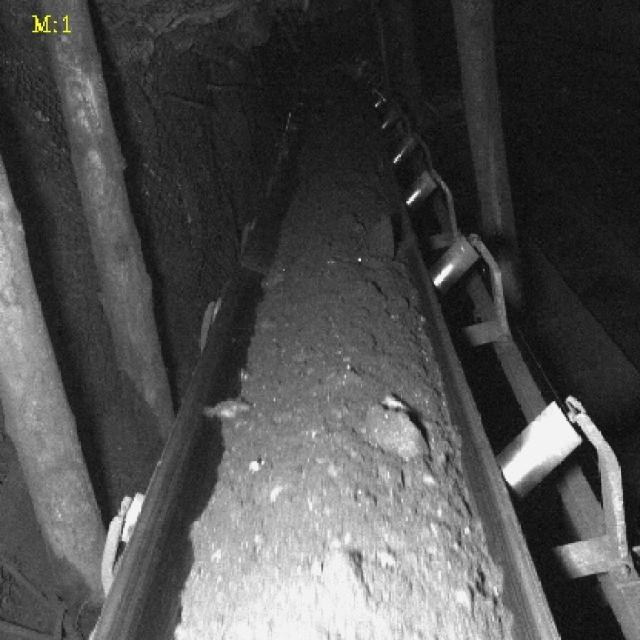large_sized_coal: (360, 395, 434, 460), (366, 217, 400, 263), (209, 397, 254, 425)
